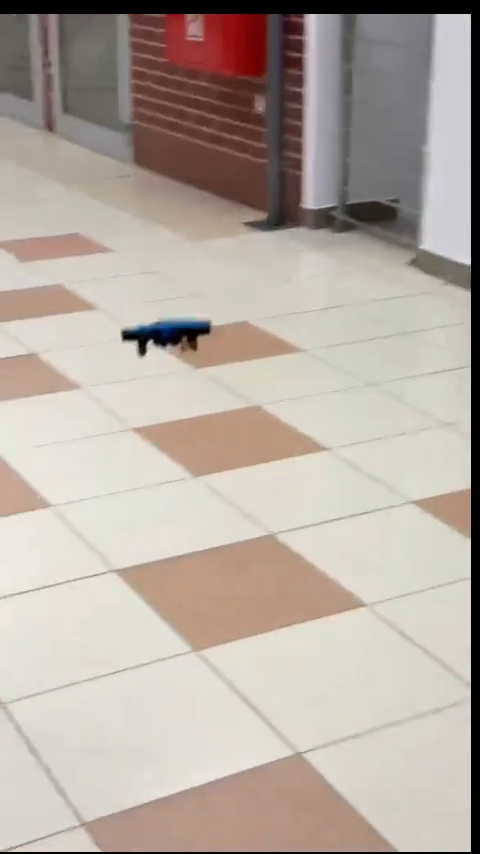drone: (117, 321, 215, 354)
